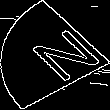N_SE: (11, 22, 99, 88)
